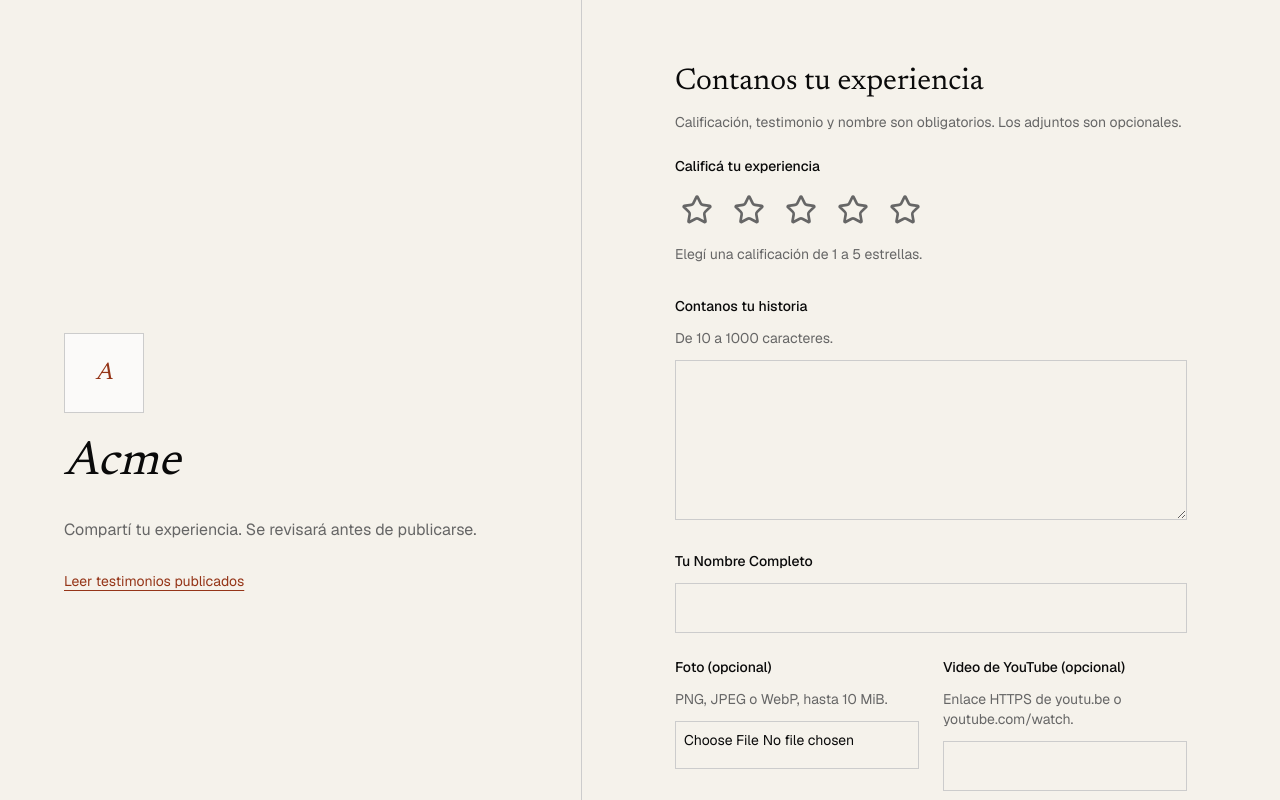
Test case: PublicCapturePage › keeps the public form and success flow
The image size is (1280, 800).
expect the heading "Acme" is shown: met, box [64, 438, 180, 486]
Type "Excelente atención del equipo" into the text box labelled "Contanos tu historia" at [931, 440], box [675, 360, 1187, 520]
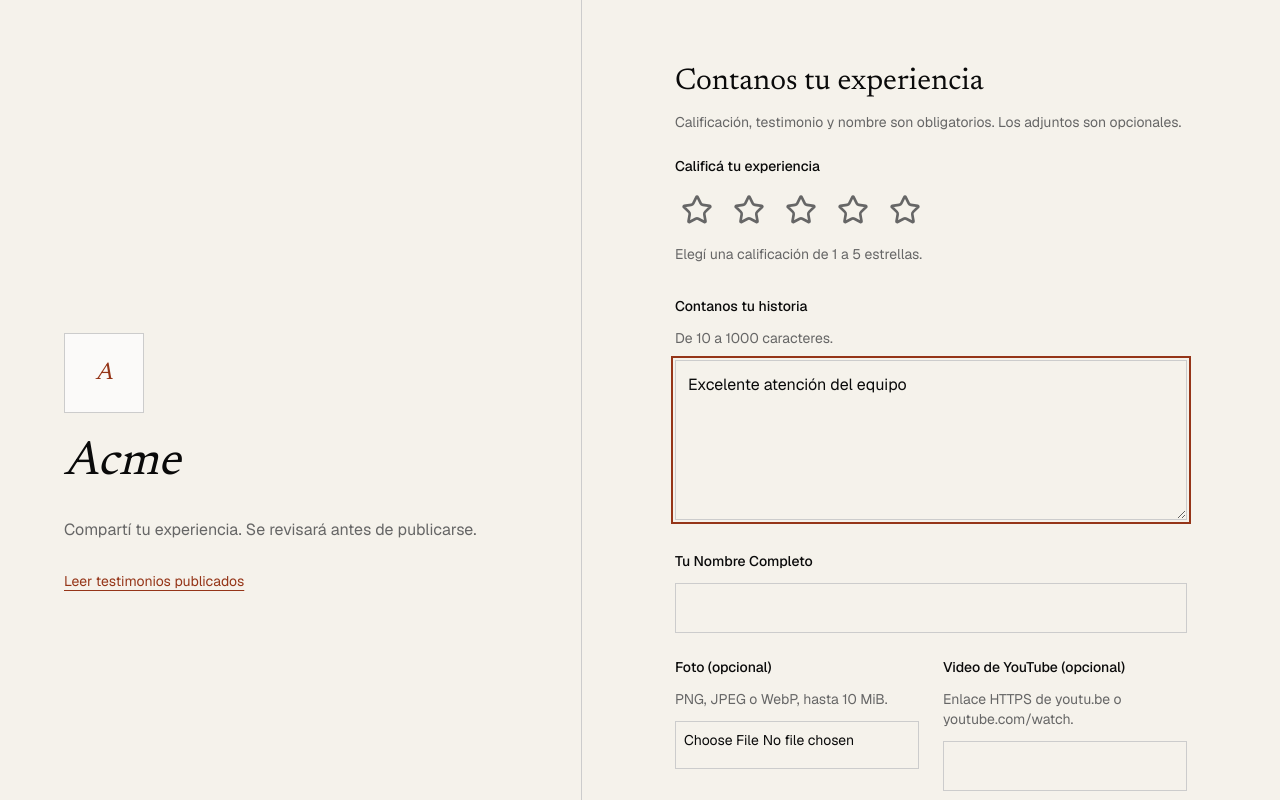
Type "Ana" into the field labelled "Tu Nombre Completo" at [931, 608], box [675, 583, 1187, 633]
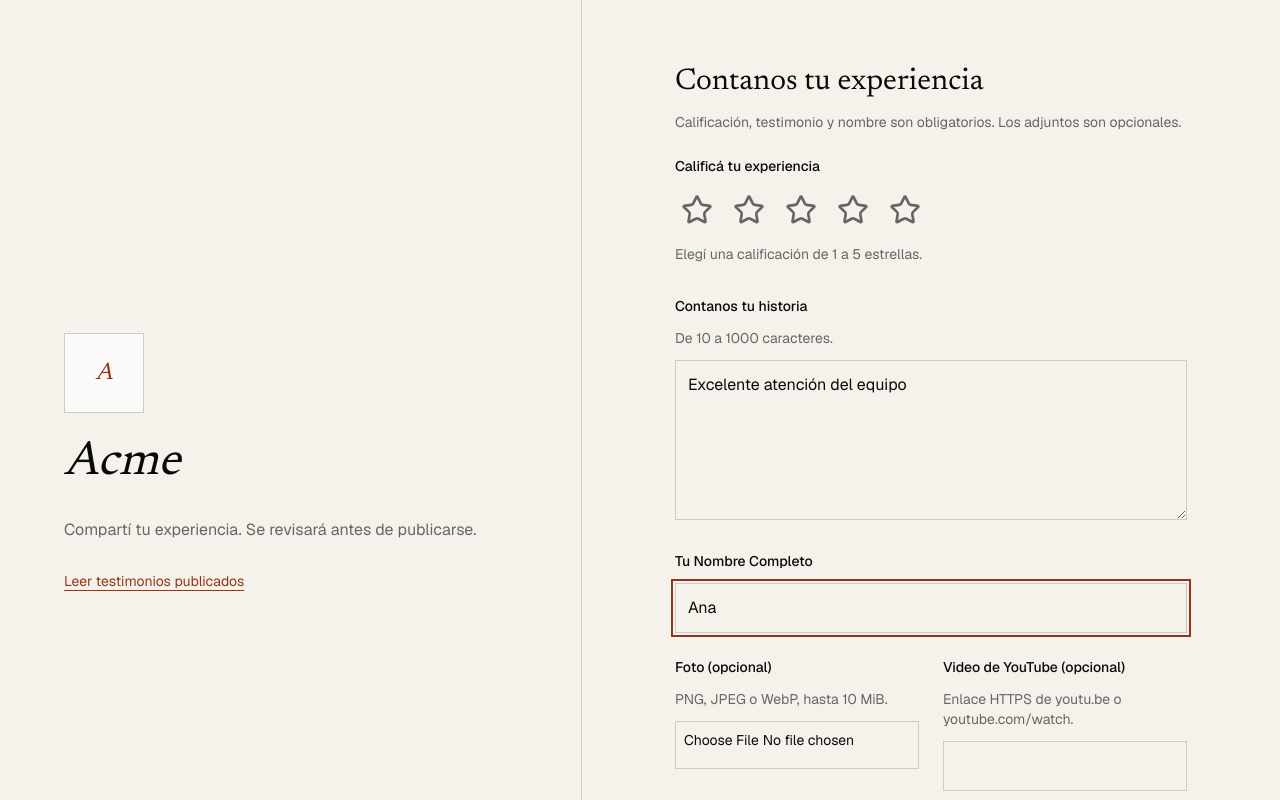
Click the radio button named "4 estrellas" at [853, 210], box [837, 194, 869, 226]
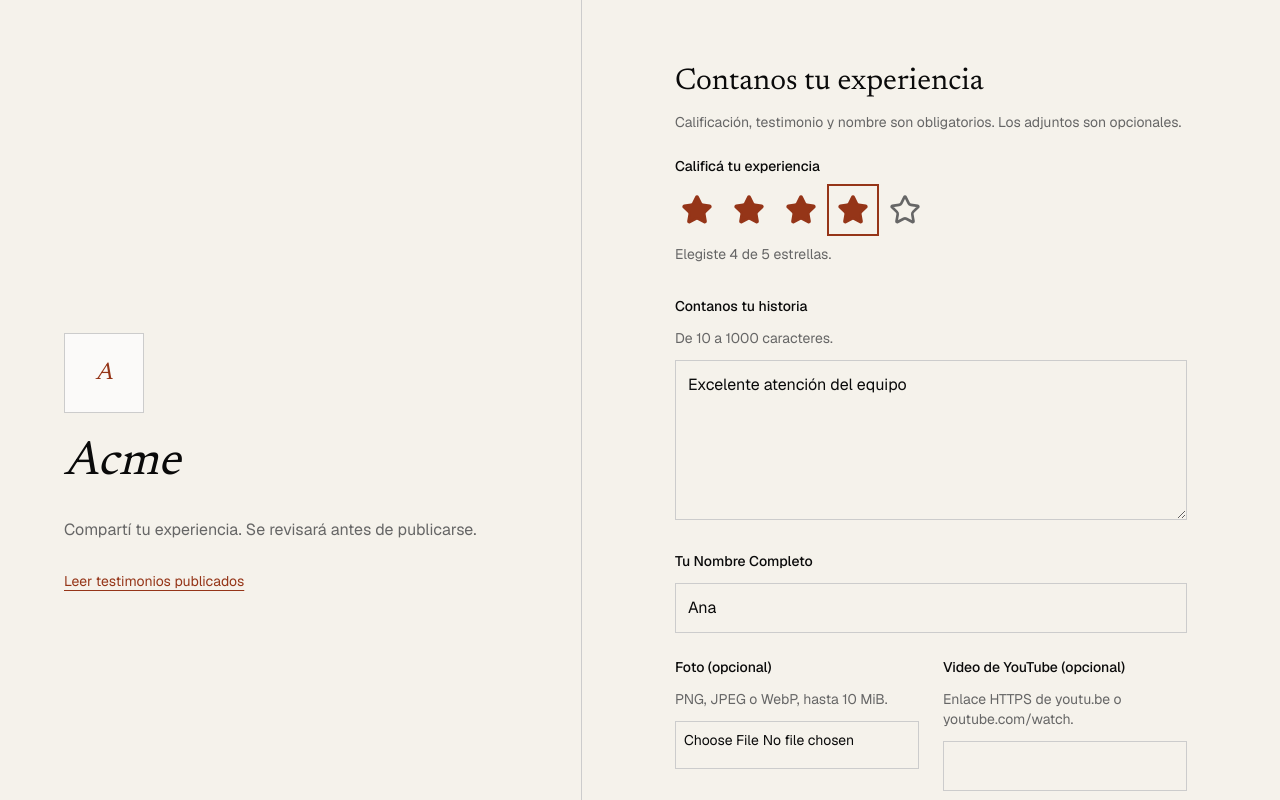
expect the radio button named "4 estrellas" is checked: met
Click the radio button named "4 estrellas" at [853, 210], box [837, 194, 869, 226]
(page scrolled)
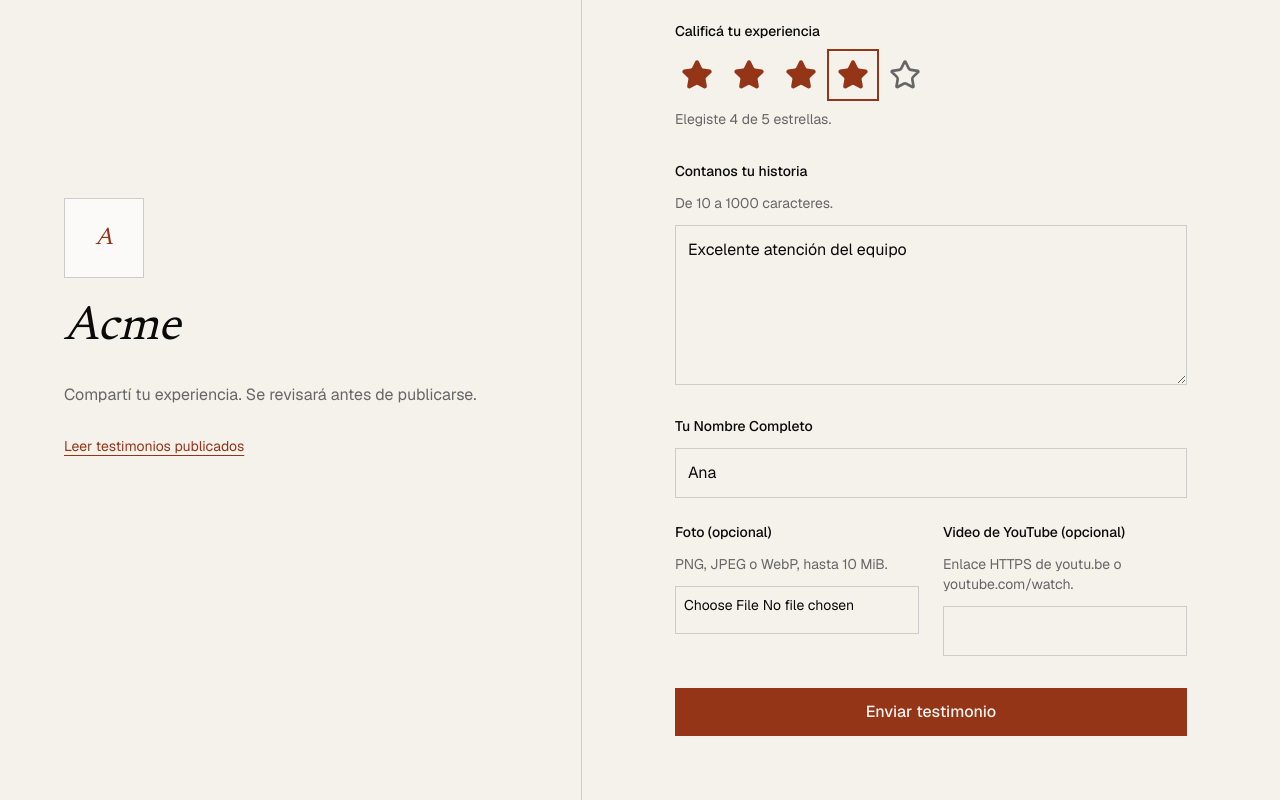
Click the button "Enviar testimonio" at [931, 712], box [675, 688, 1187, 736]
(page scrolled)
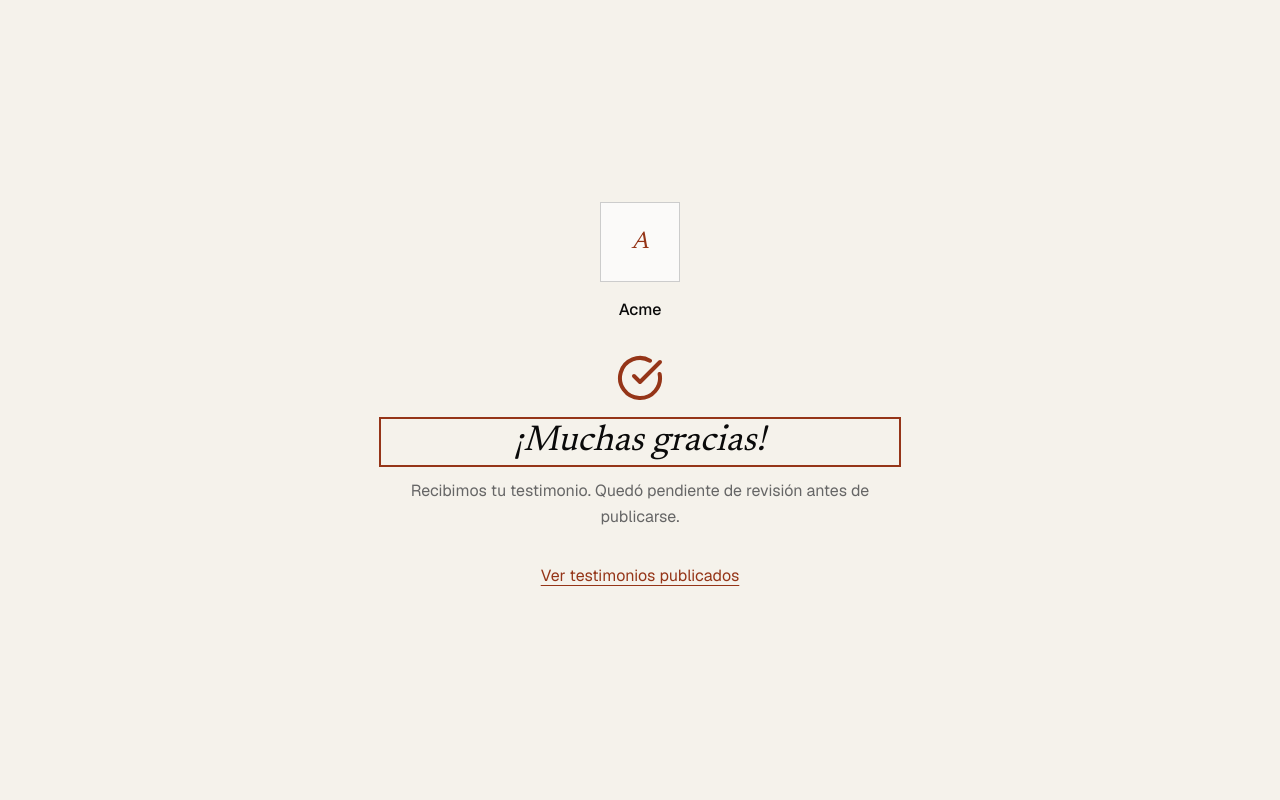
expect the heading "¡Muchas gracias!" is shown: met, box [514, 424, 766, 460]
